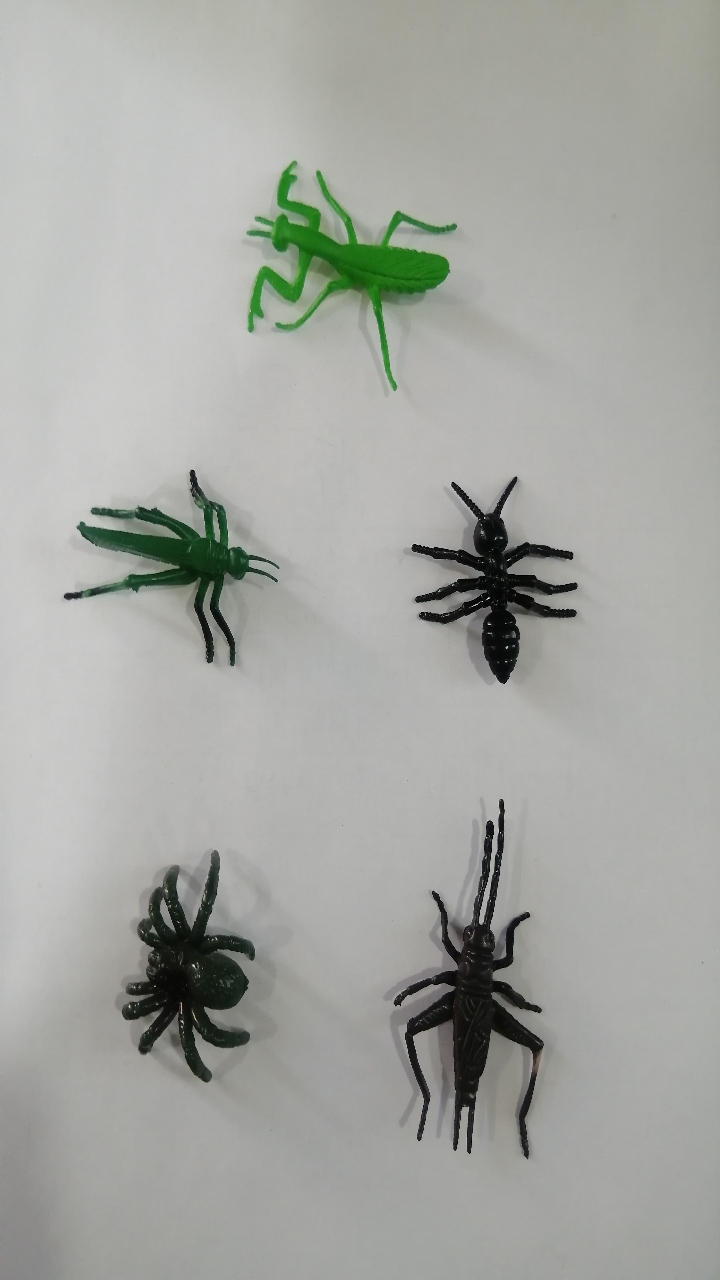intruso: (208, 117, 480, 411), (377, 768, 558, 1177), (34, 428, 283, 703), (386, 446, 594, 703), (72, 839, 280, 1095)
